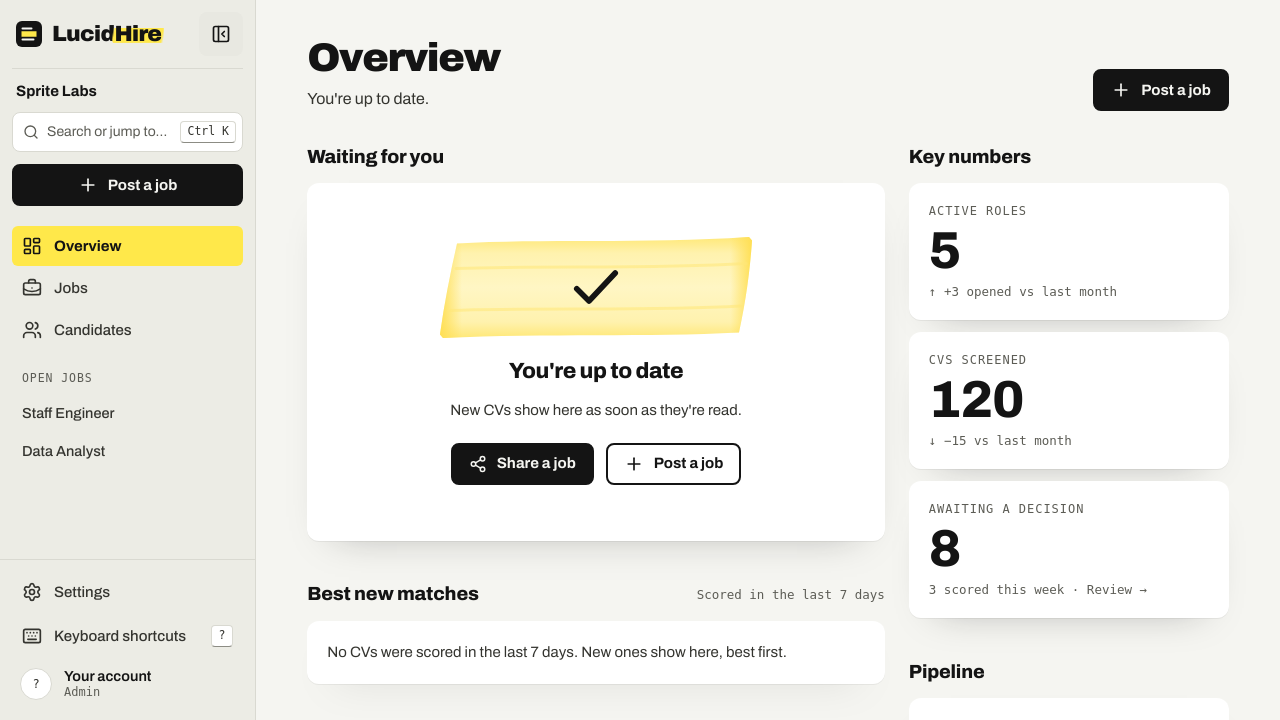
overview page › is the all-clear when nothing waits and nothing needs attention, with ways to bring in CVs
The width and height of the screenshot is (1280, 720).
Expected: the heading "Overview" is shown, [307,36,500,79]
Expected: the element "Key numbers" is shown, [909,143,1229,618]
Click the button "Share a job" at x=522, y=464, box [451,443,594,485]
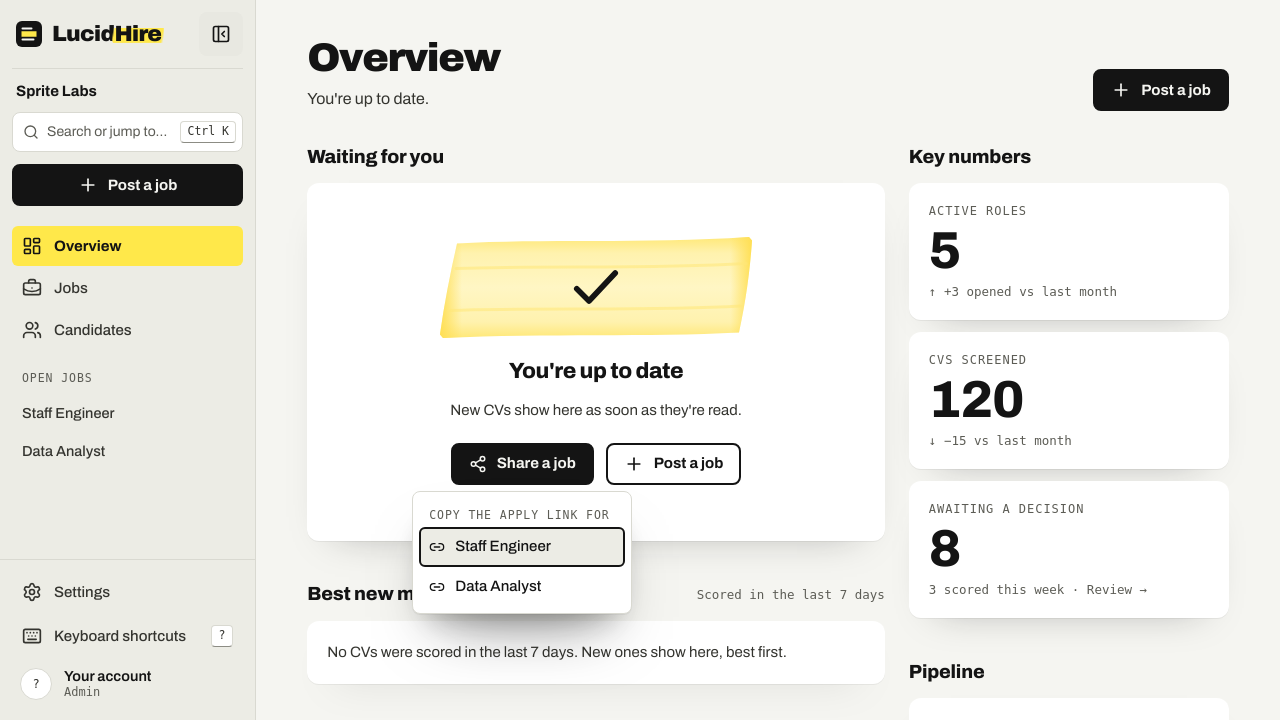
Expected: the menu items read "Staff Engineer", "Data Analyst", in this order
Click the menu item "Data Analyst" at x=522, y=587, box [419,567,625,607]
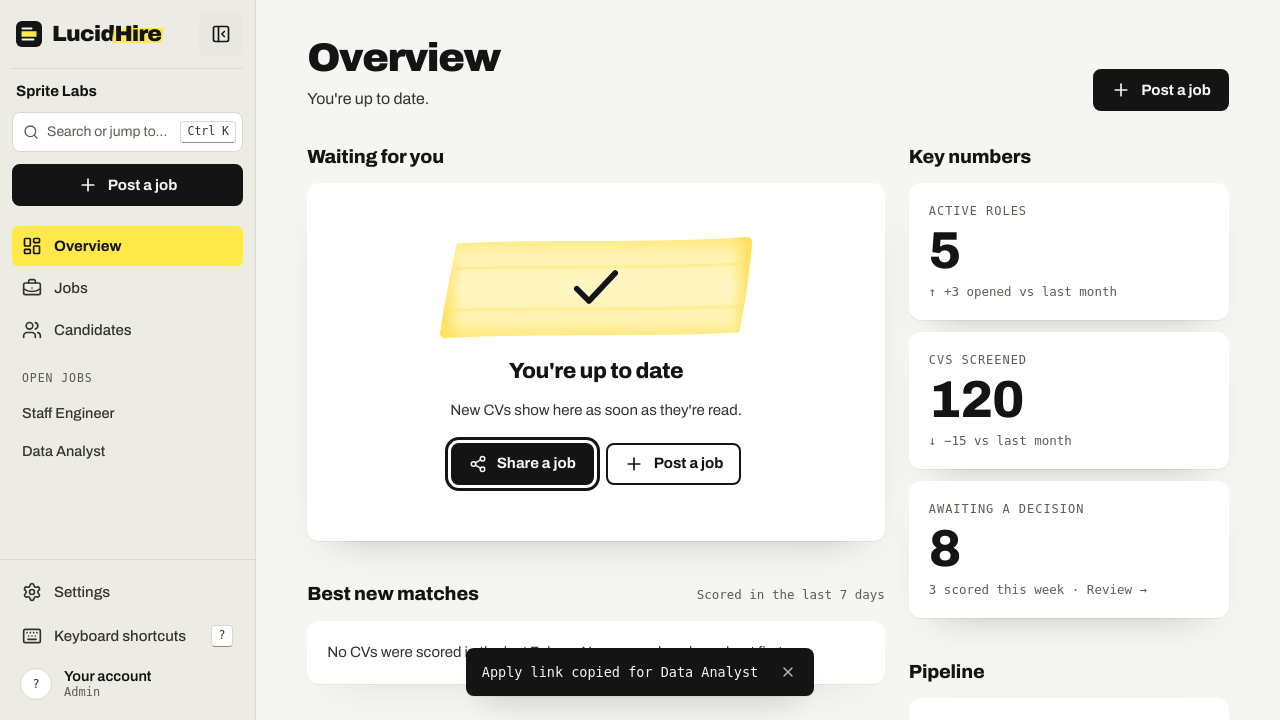
Expected: the text "Apply link copied for Data Analyst" is shown, [482,664,758,680]
